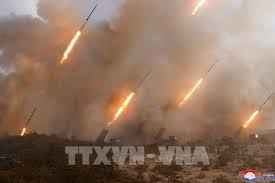ten_lua: (74, 1, 98, 35), (131, 64, 152, 96), (199, 54, 220, 85), (20, 106, 40, 136)
